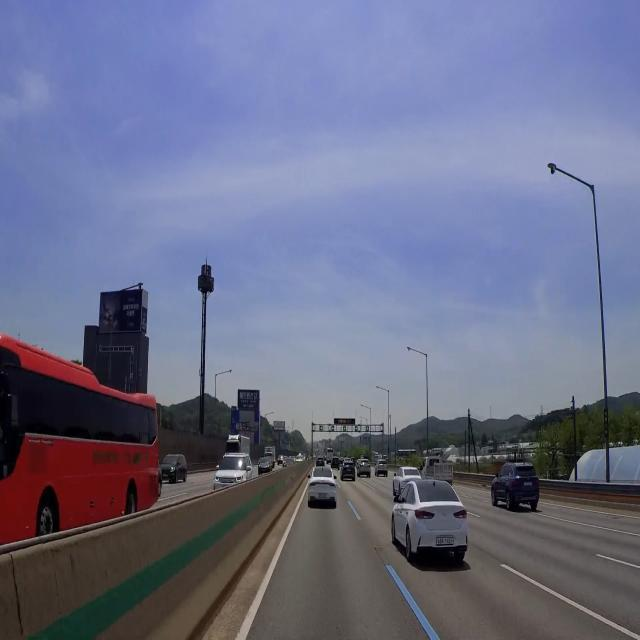car: (434, 533, 458, 553), (521, 477, 538, 492), (316, 488, 330, 503)
